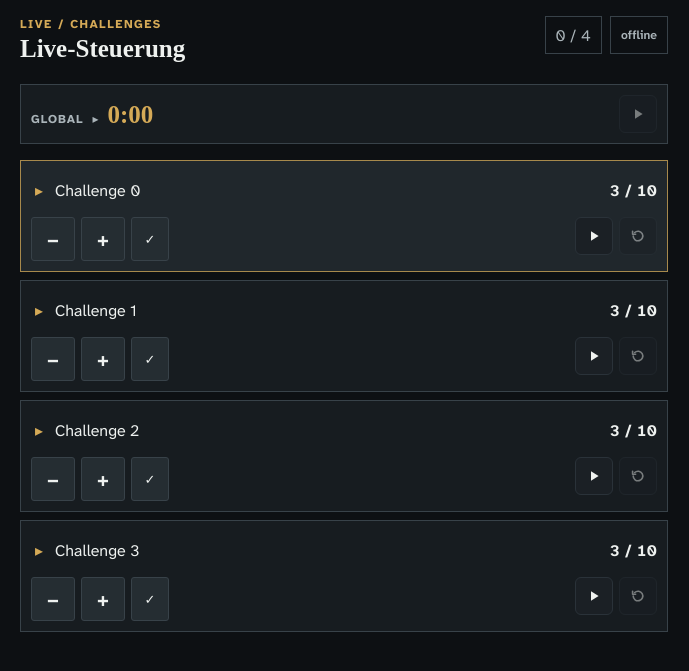
Test: Live-Bedienseite › wendet optimistisches Abhaken vor Stand und Auswahl an
Click the button named "Challenge 0 abhaken" at (150, 239), box [131,217,169,261]
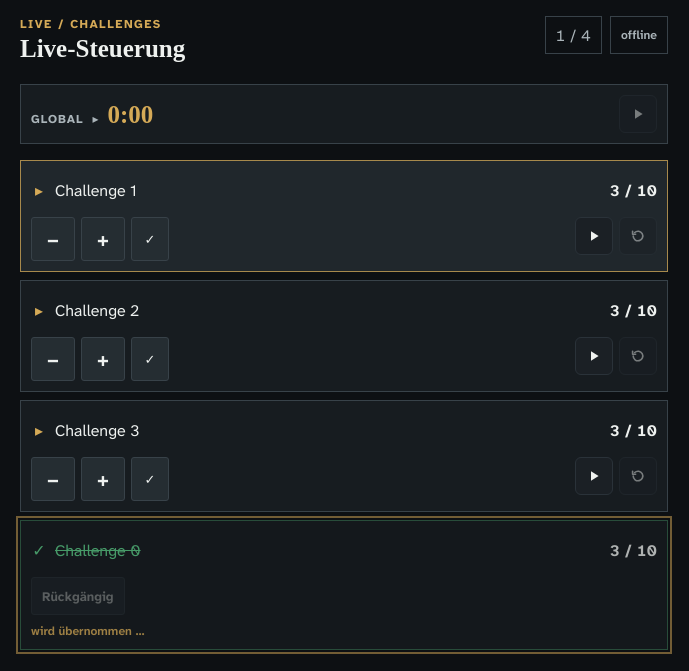
Expected: the text "Challenge 3" is shown, [55,420,139,440]
Expected: the text named "Challenge-Stand" reads "1 / 4", [556,24,591,46]
